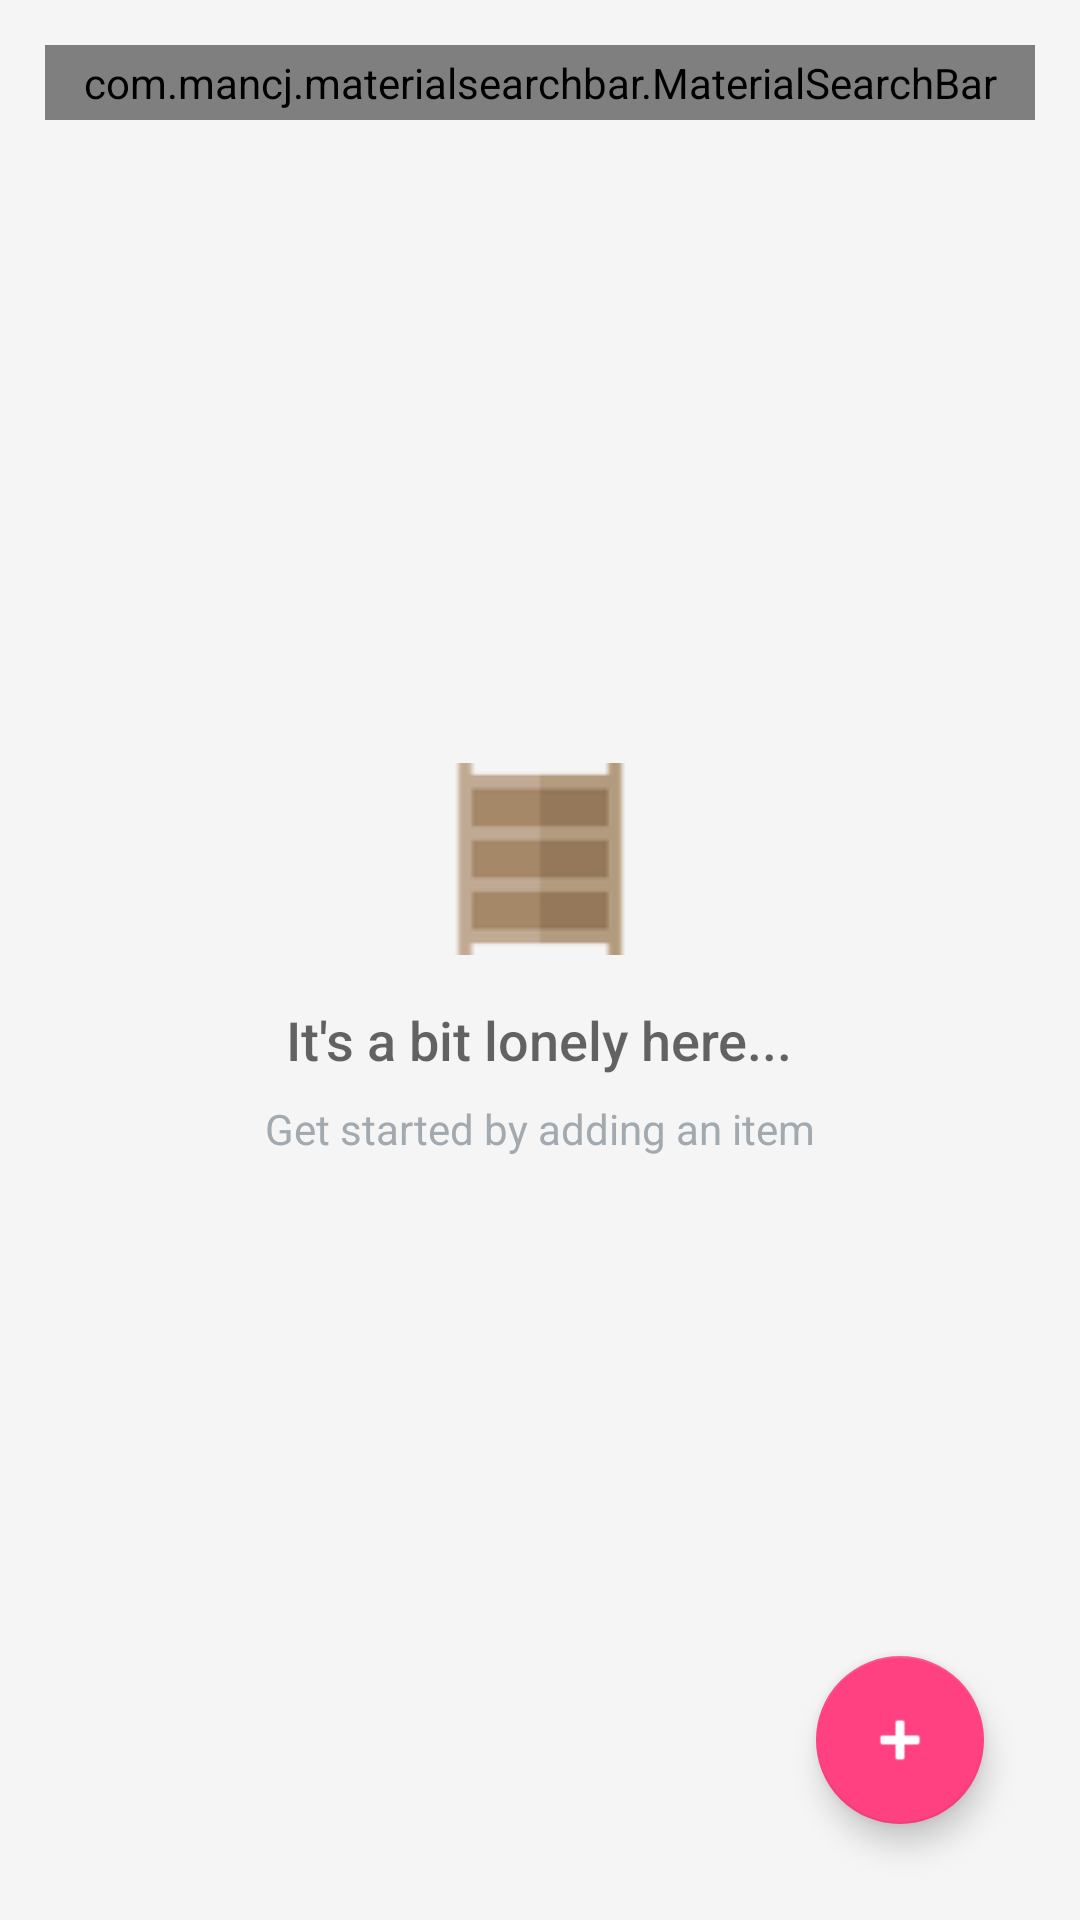

Named icons in this screenshot (1080x1920) and their bounding boxes, box(x1, y1, x2, y2):
add: box(816, 1656, 984, 1824)
empty shelf: box(457, 763, 624, 955)
